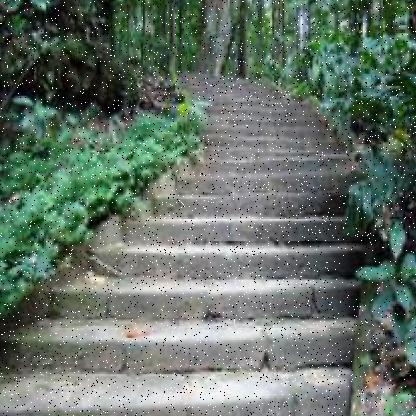stair_up: (16, 237, 338, 407)
